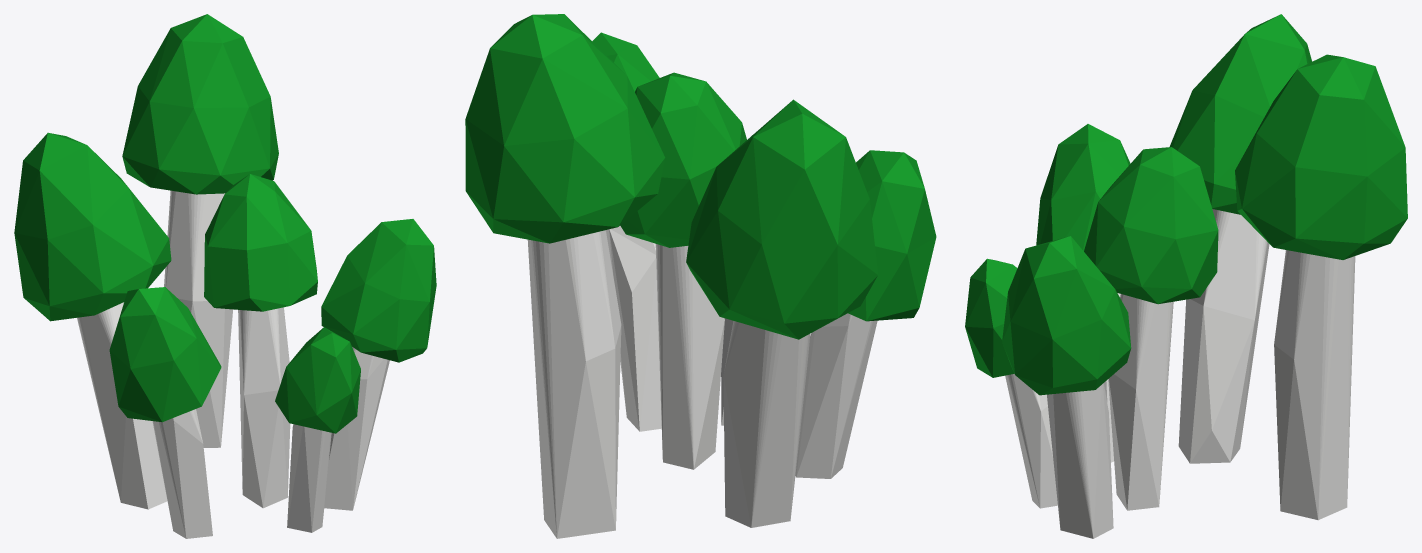
File: Ingredient_mushrom_1.fbx
3 views of the same model, side by side, from view 1: azimuth 30°, elevation 25°; view 2: azimuth 150°, elevation 25°; view 3: azimuth 270°, elevation 25° (orthographic). The views are drawn at different scales.
Visible parts, largest first — view 1: Jar_Mushrooms.002; view 2: Jar_Mushrooms.002; view 3: Jar_Mushrooms.002.
Boxes of the visible parts, bbox=[...] form: Jar_Mushrooms.002: bbox=[14, 14, 436, 538]; Jar_Mushrooms.002: bbox=[465, 14, 936, 538]; Jar_Mushrooms.002: bbox=[965, 14, 1407, 538].
Bounding box in the file's own units: 24.83 × 30.57 × 26.56.
